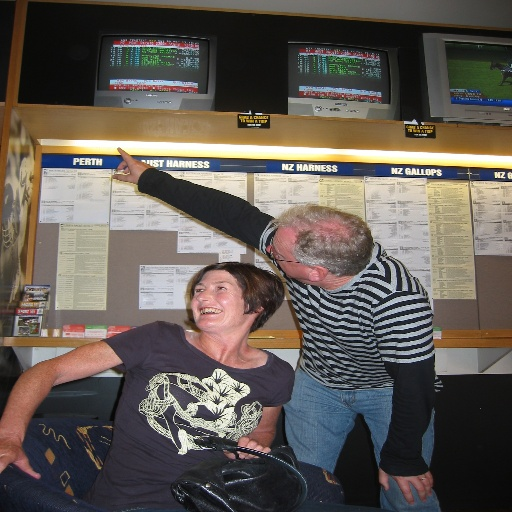hand: (99, 138, 156, 186), (378, 469, 436, 506), (0, 433, 42, 480), (221, 436, 272, 462)
